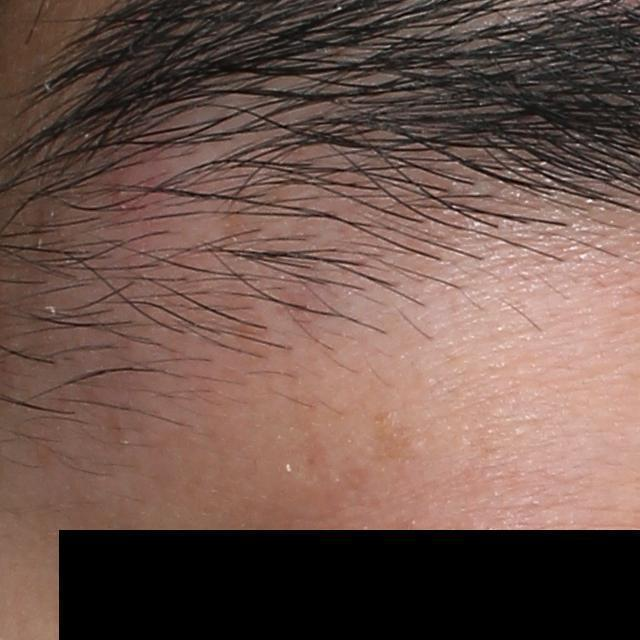melasma: (372, 406, 420, 464)
